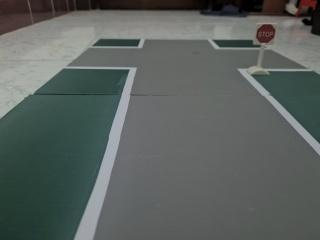stop: (255, 20, 279, 48)
